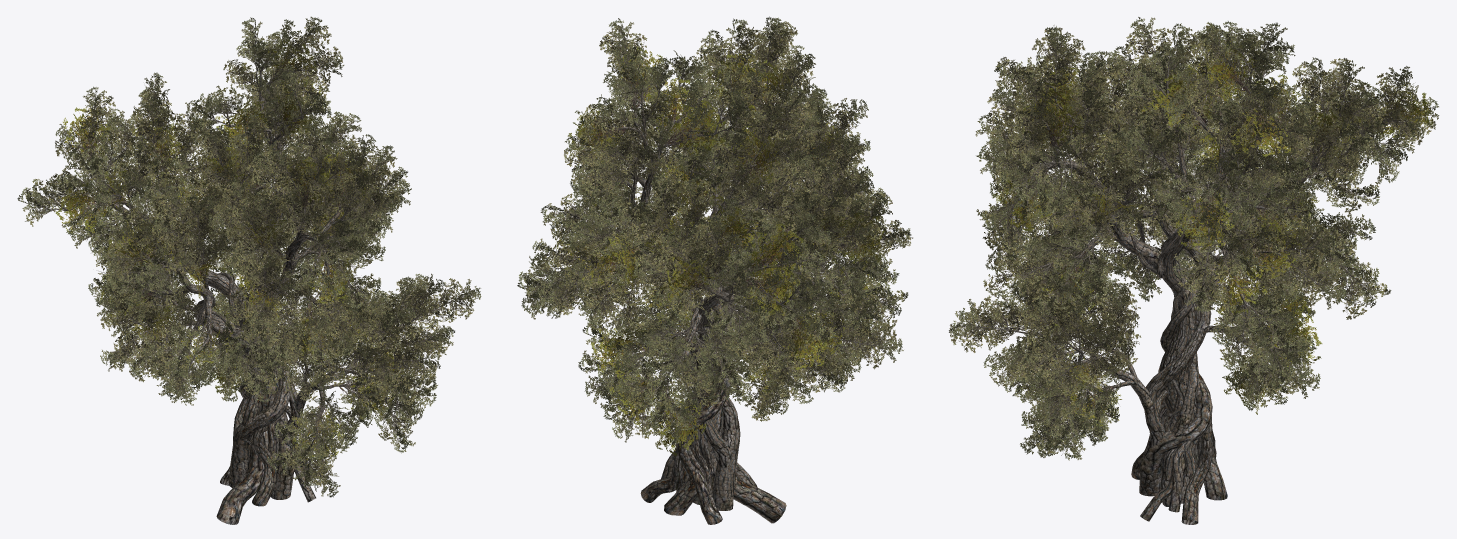
3 views of the same model, side by side, from view 1: azimuth 30°, elevation 25°; view 2: azimuth 150°, elevation 25°; view 3: azimuth 270°, elevation 25° (orthographic). The views are drawn at different scales.
Parts seen in each view (by area): view 1: Plane_22, Plane_21, 13_Leaf8_0, Sweep_NURBS, Sweep_NURBS_1, Plane_14, Sweep_NURBS_1_3, Sweep_NURBS_1_4, Sweep_NURBS_1_2, Sweep_NURBS_1_5; view 2: Plane_21, Plane_22, 13_Leaf8_0, Sweep_NURBS_1, Sweep_NURBS, Plane_14, Sweep_NURBS_1_4, Sweep_NURBS_1_3, Sweep_NURBS_1_5, Sweep_NURBS_1_2; view 3: Plane_22, Plane_21, 13_Leaf8_0, Sweep_NURBS, Sweep_NURBS_1, Plane_14, Sweep_NURBS_1_3, Sweep_NURBS_1_2, Sweep_NURBS_1_5, Sweep_NURBS_1_4.
Boxes of the visible parts, <box> form: Plane_22: <box>47,21,475,491</box>; Plane_21: <box>17,16,481,497</box>; 13_Leaf8_0: <box>55,34,404,461</box>; Sweep_NURBS: <box>137,44,393,499</box>; Sweep_NURBS_1: <box>216,386,315,524</box>; Plane_14: <box>25,33,415,429</box>; Sweep_NURBS_1_3: <box>63,36,463,478</box>; Sweep_NURBS_1_4: <box>31,41,375,349</box>; Sweep_NURBS_1_2: <box>90,134,283,472</box>; Sweep_NURBS_1_5: <box>53,128,422,456</box>; Plane_21: <box>517,16,912,445</box>; Plane_22: <box>526,22,911,438</box>; 13_Leaf8_0: <box>556,47,885,456</box>; Sweep_NURBS_1: <box>640,391,786,524</box>; Sweep_NURBS: <box>564,46,891,510</box>; Plane_14: <box>538,64,908,411</box>; Sweep_NURBS_1_4: <box>567,50,859,354</box>; Sweep_NURBS_1_3: <box>548,33,893,404</box>; Sweep_NURBS_1_5: <box>521,92,878,437</box>; Sweep_NURBS_1_2: <box>682,171,867,504</box>; Plane_22: <box>949,27,1436,454</box>; Plane_21: <box>949,17,1439,460</box>; 13_Leaf8_0: <box>992,39,1433,431</box>; Sweep_NURBS: <box>1015,46,1332,496</box>; Sweep_NURBS_1: <box>1131,379,1227,524</box>; Plane_14: <box>979,22,1391,419</box>; Sweep_NURBS_1_3: <box>972,35,1414,441</box>; Sweep_NURBS_1_2: <box>1155,103,1396,475</box>; Sweep_NURBS_1_5: <box>991,109,1404,455</box>; Sweep_NURBS_1_4: <box>1007,33,1351,302</box>.
Size of the model in its own units: 27.99 by 36.73 by 31.83.
5 materials, 5 textured.
